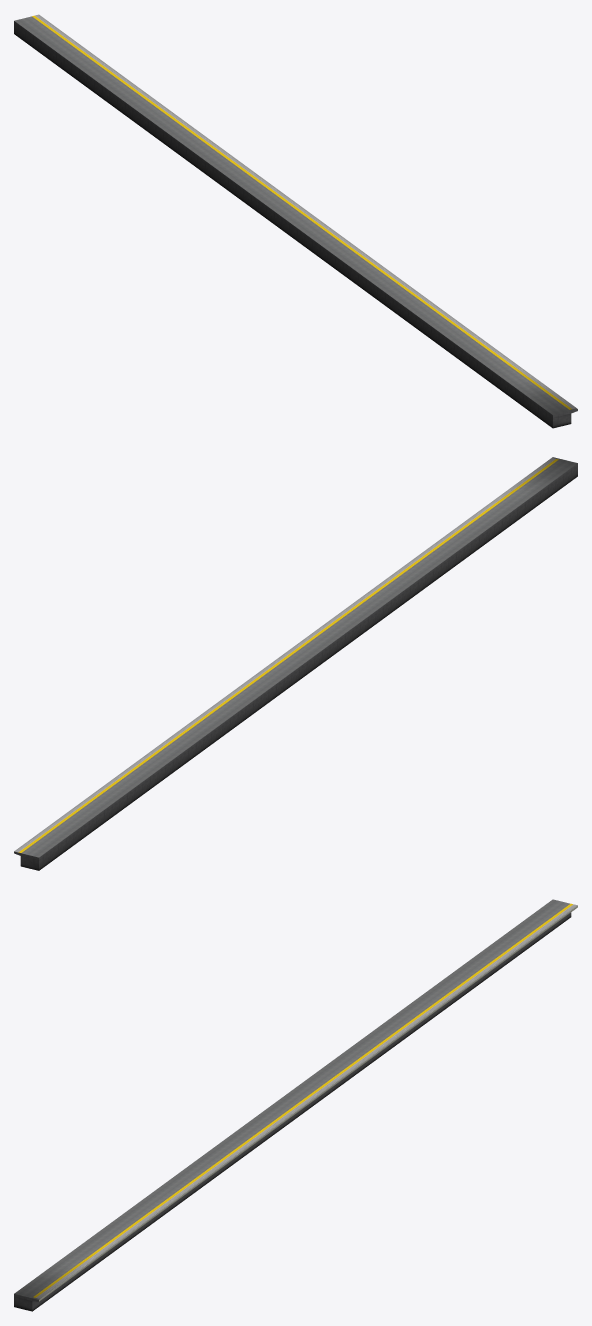
The model's file is HOME_24_R.glb.
3 renders of one model, top to bottom at view 1: azimuth 30°, elevation 25°; view 2: azimuth 150°, elevation 25°; view 3: azimuth 330°, elevation 25°, orthographic.
Parts seen in each view (by area): view 1: obj31, y_Block4; view 2: obj31, y_Block4; view 3: obj31, y_Block4.
Boxes of the visible parts, x1=… form: obj31: x1=14, y1=16, x2=577, y2=428; y_Block4: x1=32, y1=14, x2=576, y2=409; obj31: x1=14, y1=457, x2=577, y2=870; y_Block4: x1=14, y1=458, x2=558, y2=852; obj31: x1=14, y1=899, x2=577, y2=1311; y_Block4: x1=33, y1=903, x2=577, y2=1298.
Bounding box in the file's own units: 8.06 × 4.12 × 300.
Materials: 4 (4 with a texture image).
